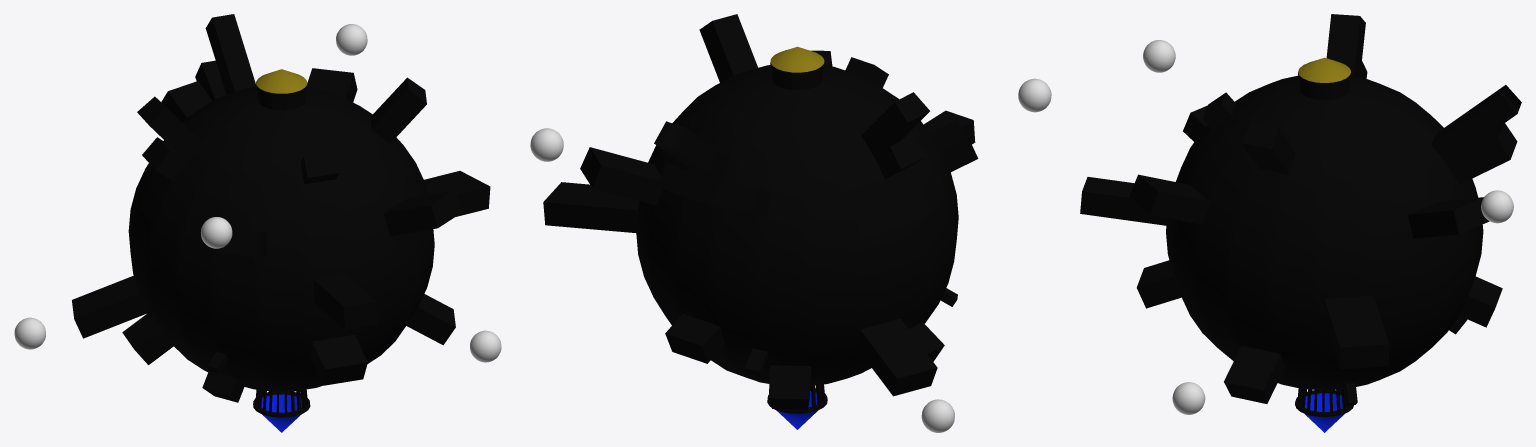
File: planet.fbx
3 views of the same model, side by side, from view 1: azimuth 30°, elevation 25°; view 2: azimuth 150°, elevation 25°; view 3: azimuth 270°, elevation 25° (orthographic). The views are drawn at different scales.
Visible parts, largest first — view 1: pSphere1, pSphere2, pSphere3, pSphere4, pSphere5; view 2: pSphere1, pSphere3, pSphere5, pSphere2; view 3: pSphere1, pSphere5, pSphere3, pSphere4.
Boxes of the visible parts, left/top/right/bottom form: pSphere1: left=72, top=14, right=490, bottom=432; pSphere2: left=14, top=317, right=45, bottom=349; pSphere3: left=336, top=24, right=367, bottom=55; pSphere4: left=470, top=330, right=501, bottom=362; pSphere5: left=201, top=217, right=232, bottom=248; pSphere1: left=543, top=14, right=978, bottom=429; pSphere3: left=530, top=128, right=563, bottom=161; pSphere5: left=1018, top=78, right=1051, bottom=112; pSphere2: left=921, top=399, right=954, bottom=432; pSphere1: left=1080, top=14, right=1521, bottom=432; pSphere5: left=1143, top=40, right=1175, bottom=72; pSphere3: left=1481, top=190, right=1513, bottom=223; pSphere4: left=1172, top=382, right=1205, bottom=414.
Bounding box in the file's own units: 17.62 × 14.49 × 15.46.
